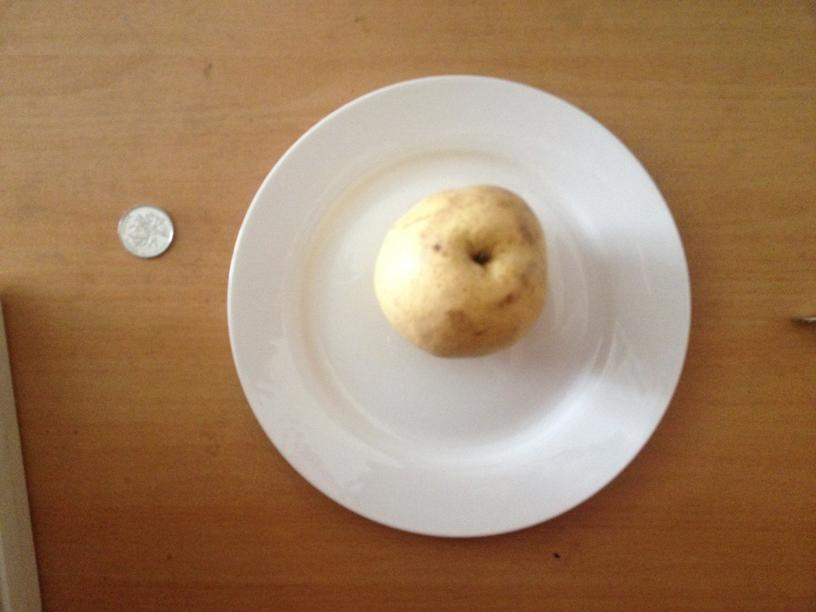coin: (115, 205, 172, 257)
pear: (376, 182, 547, 359)
